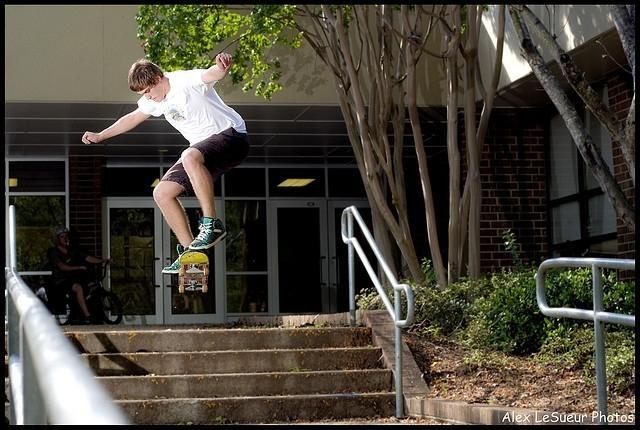bicycle: (46, 262, 126, 325)
